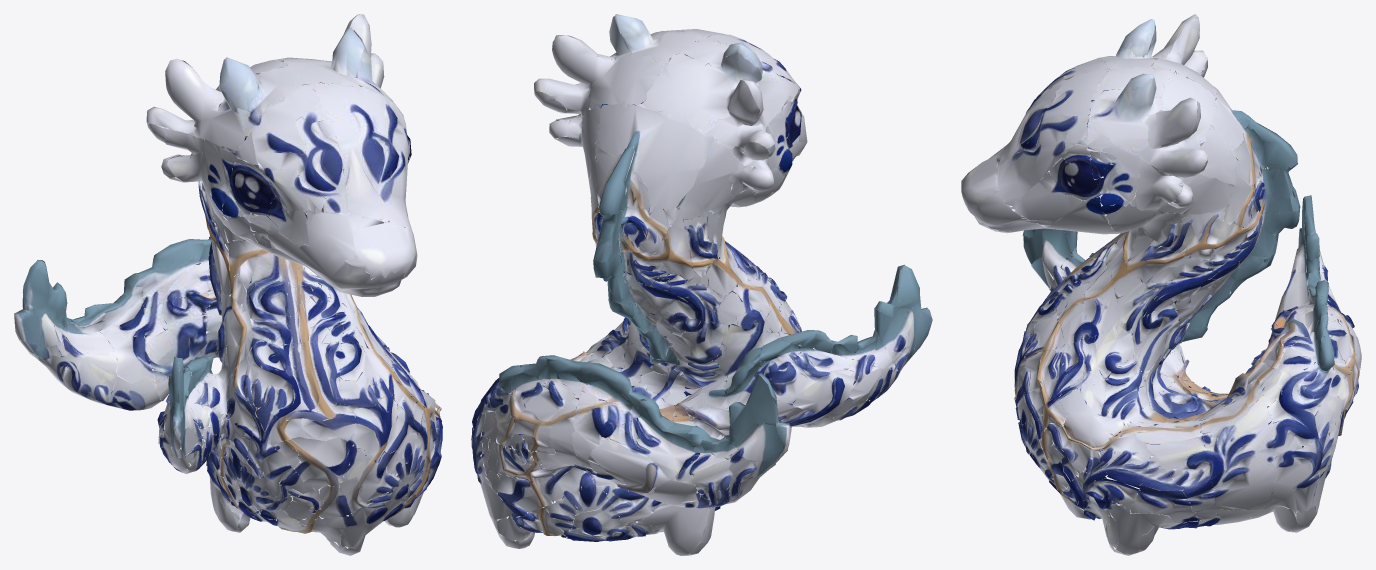
3 renders of one model, left to right at view 1: azimuth 30°, elevation 25°; view 2: azimuth 150°, elevation 25°; view 3: azimuth 270°, elevation 25°, orthographic. The views are drawn at different scales.
Parts seen in each view (by area): view 1: Mesh_0; view 2: Mesh_0; view 3: Mesh_0.
Boxes of the visible parts, <box> form: Mesh_0: <box>14,14,442,555</box>; Mesh_0: <box>471,14,932,555</box>; Mesh_0: <box>961,14,1361,555</box>.
Bounding box in the file's own units: 1.36 × 1.9 × 1.49.
Materials: 1 (1 with a texture image).
